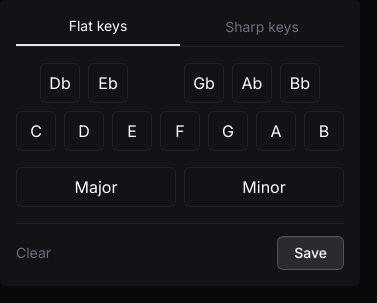
Scenario: KeyPickerPopover › switches to Sharp keys tab and shows F#/G#/etc
Click the button "Sharp keys" at (262, 31), box [180,16,344,46]
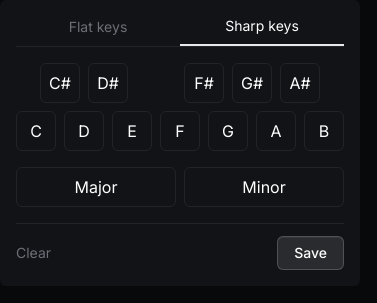
Now the button "F#" is shown, box [184,63,224,103]
Now the button "G#" is shown, box [232,63,272,103]
